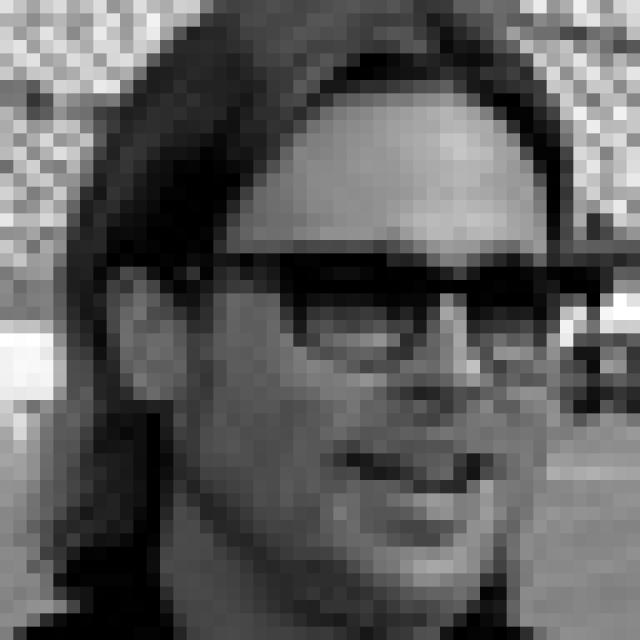happy: (266, 222, 548, 556)
